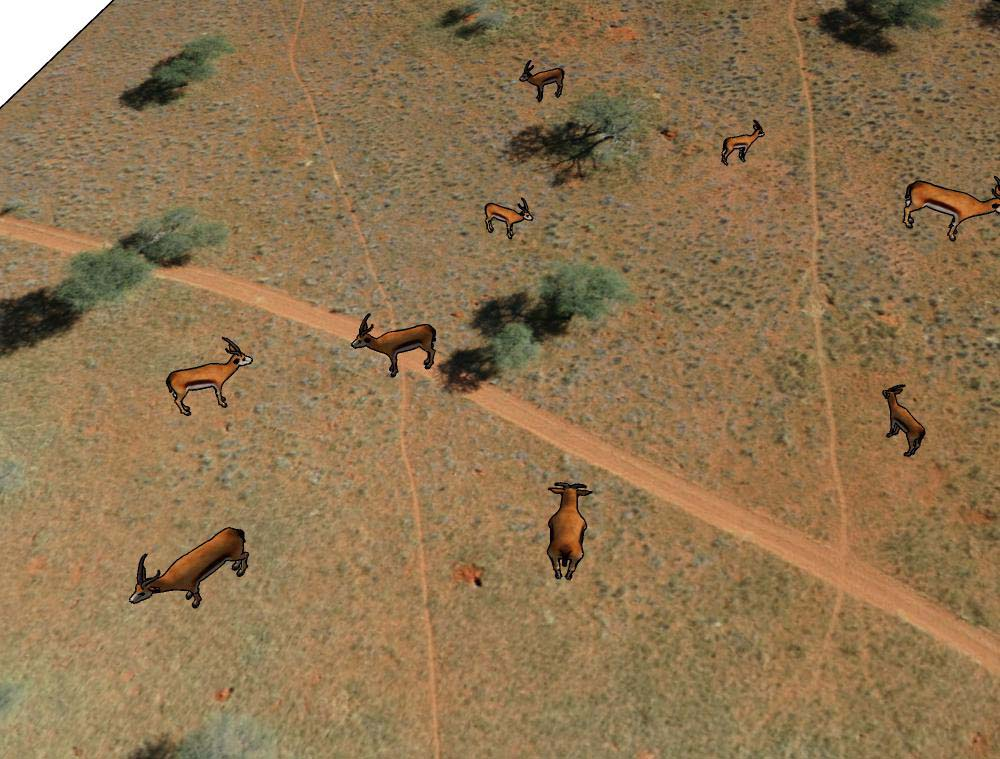springbok: (131, 526, 255, 612), (161, 334, 257, 414), (898, 173, 1000, 240), (533, 475, 590, 584), (353, 309, 438, 375), (872, 384, 925, 458), (717, 117, 770, 168), (517, 51, 568, 103), (478, 194, 534, 238)
